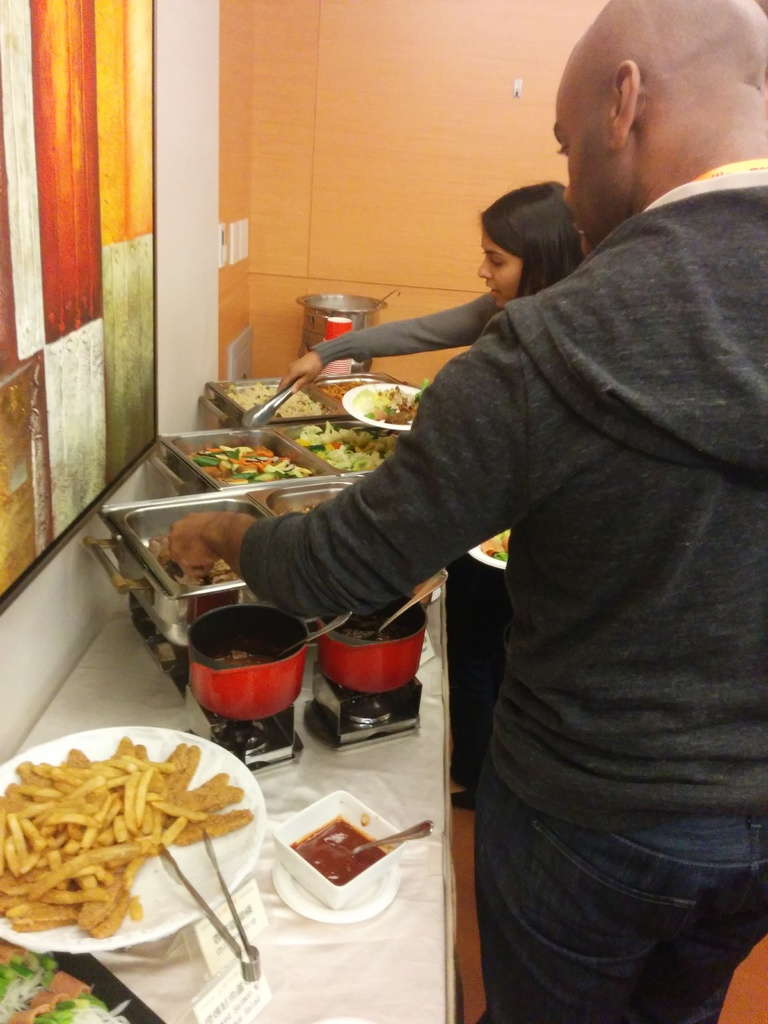French fries: (0, 744, 251, 943)
